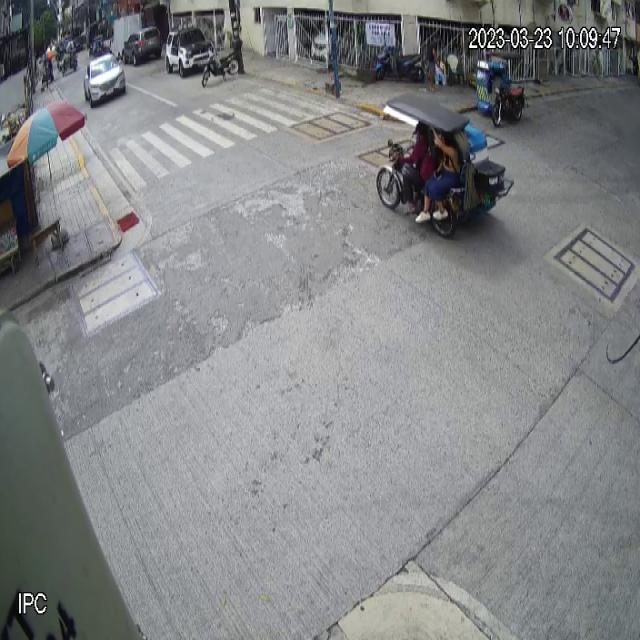Car: (83, 52, 126, 108)
Tricycle: (376, 93, 514, 240), (476, 51, 526, 127)
